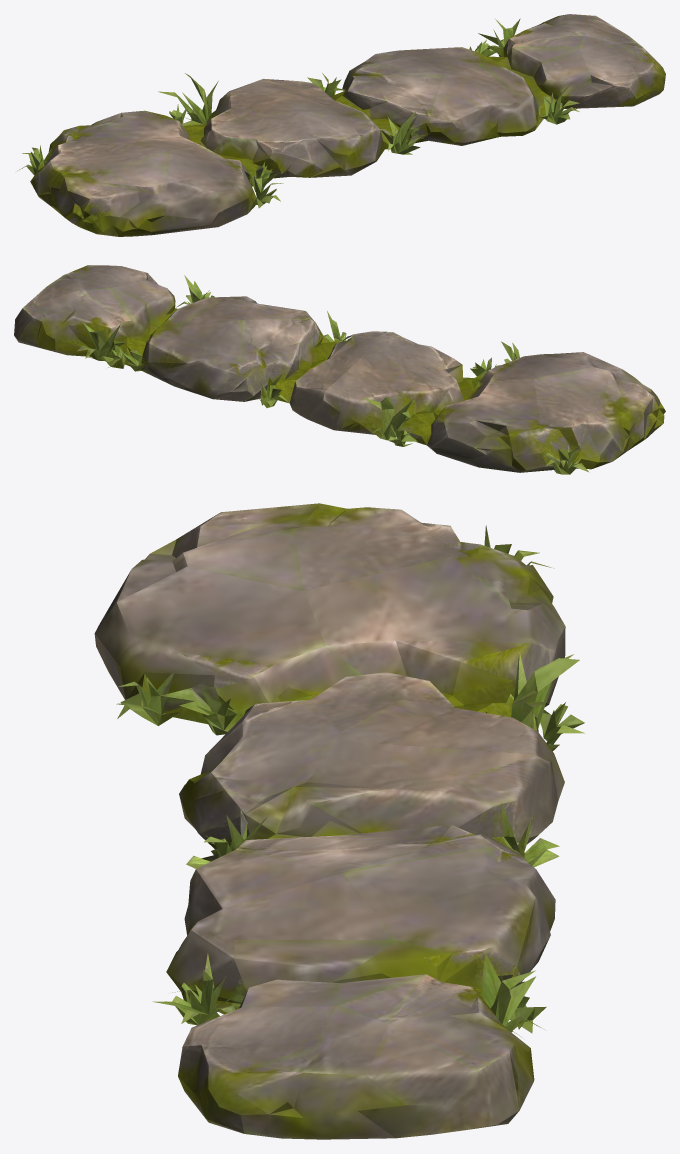
File: PRP-003.glb
The picture shows the model from 3 angles, top to bottom: view 1: azimuth 30°, elevation 25°; view 2: azimuth 150°, elevation 25°; view 3: azimuth 270°, elevation 25°; orthographic projection. The views are drawn at different scales.
Visible parts, largest first — view 1: PRP-003; view 2: PRP-003; view 3: PRP-003.
Boxes of the visible parts, bbox=[...] form: PRP-003: bbox=[18, 14, 665, 236]; PRP-003: bbox=[14, 265, 665, 474]; PRP-003: bbox=[94, 503, 584, 1139].
Size of the model in its own units: 2.26 by 0.175 by 0.8104.
Materials: 1 (1 with a texture image).
